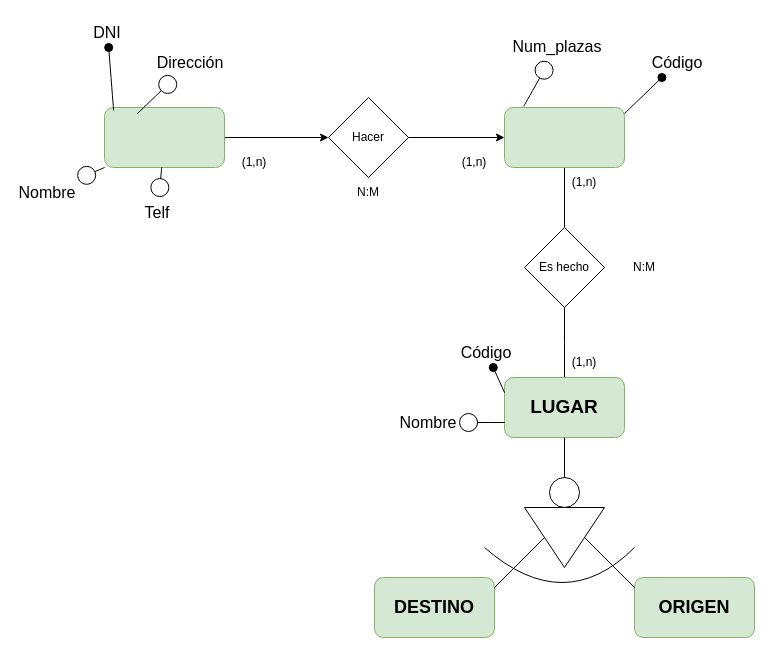
Image size: 772x655. Some labels were removed from this diagram. Each missing label, with the centre of its shape:
"VIAJE" goes at [564,137].
"VIEAJERO" goes at [164,137].
